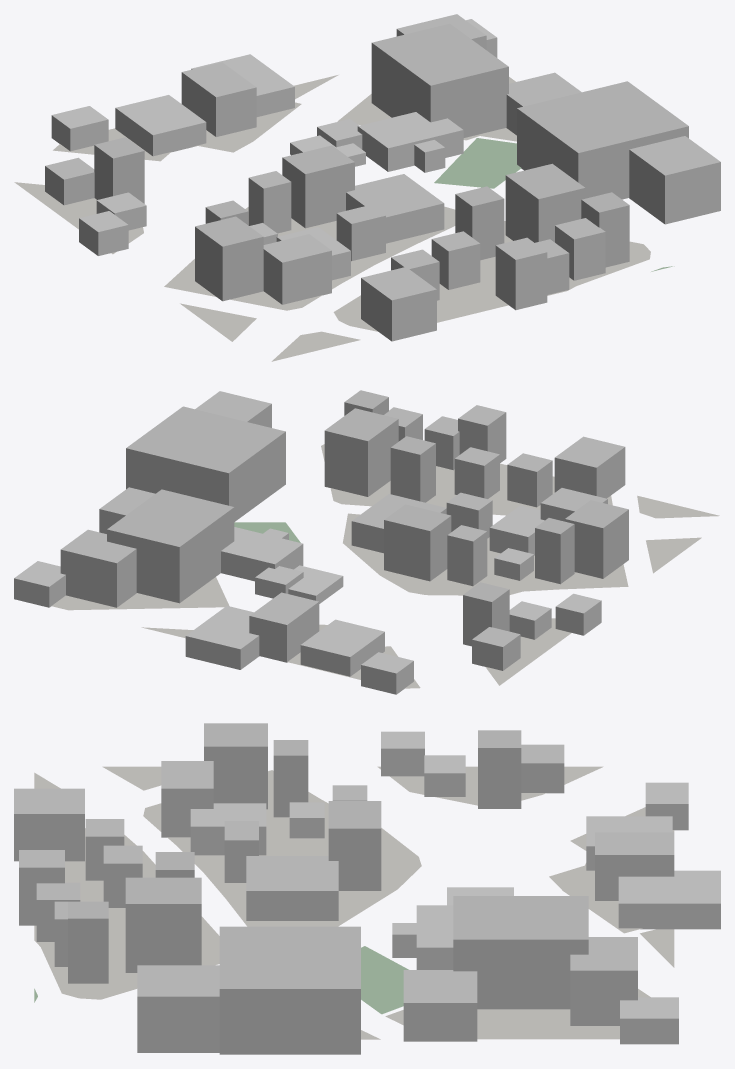
The model's file is 134_87_mid.glb.
3 views of the same model, one above another, from view 1: azimuth 30°, elevation 25°; view 2: azimuth 150°, elevation 25°; view 3: azimuth 270°, elevation 25° (orthographic). The views are drawn at different scales.
Size of the model in its own units: 540 by 61.77 by 552.
